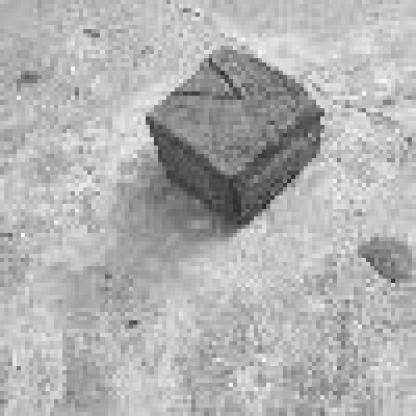brick: (144, 43, 325, 231)
